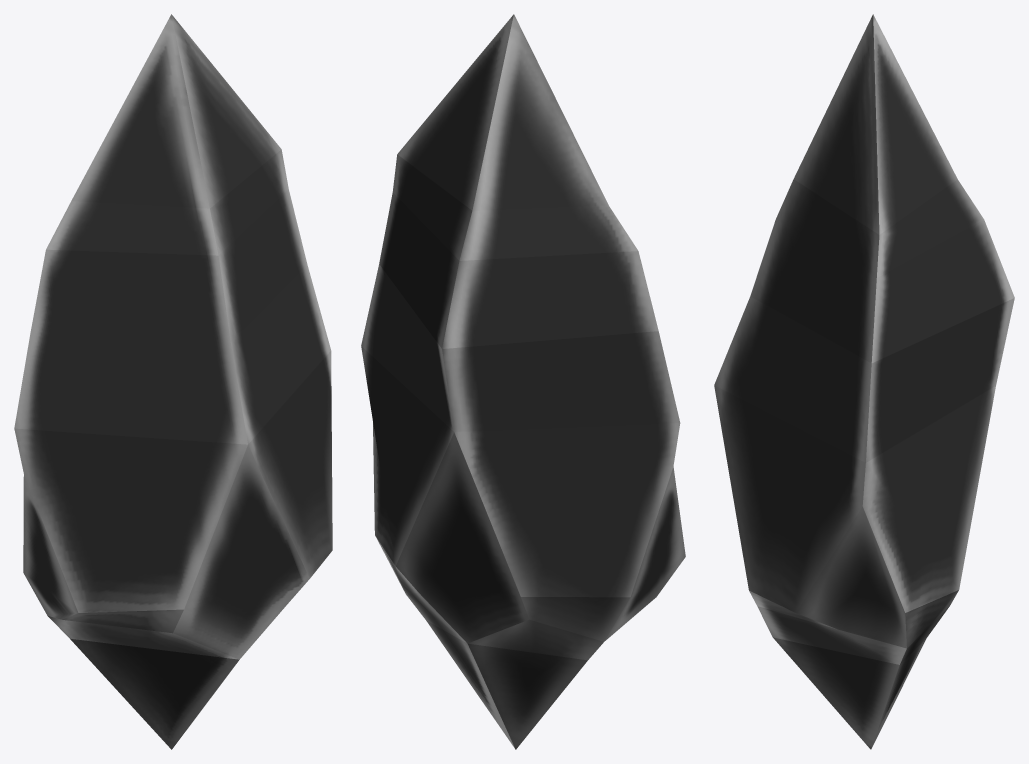
Rendered from Crystal_1.fbx.
3 views of the same model, side by side, from view 1: azimuth 30°, elevation 25°; view 2: azimuth 150°, elevation 25°; view 3: azimuth 270°, elevation 25° (orthographic).
Visible parts, largest first — view 1: Cube; view 2: Cube; view 3: Cube.
Part boxes in pixels (bbox=[...]): Cube: bbox=[14, 14, 332, 749]; Cube: bbox=[361, 14, 685, 749]; Cube: bbox=[714, 14, 1014, 749].
Size of the model in its own units: 200 by 442 by 164.
Materials: 1 (1 with a texture image).
